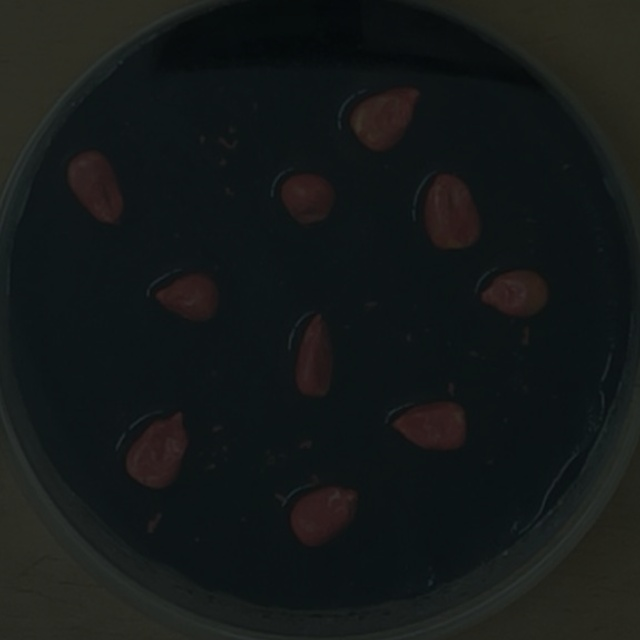Zea mays: (118, 403, 197, 499), (58, 143, 135, 237), (281, 475, 368, 557), (414, 165, 491, 257), (342, 78, 427, 159), (381, 393, 475, 461), (286, 304, 344, 406), (145, 266, 227, 332), (471, 262, 555, 325), (273, 166, 345, 236)
